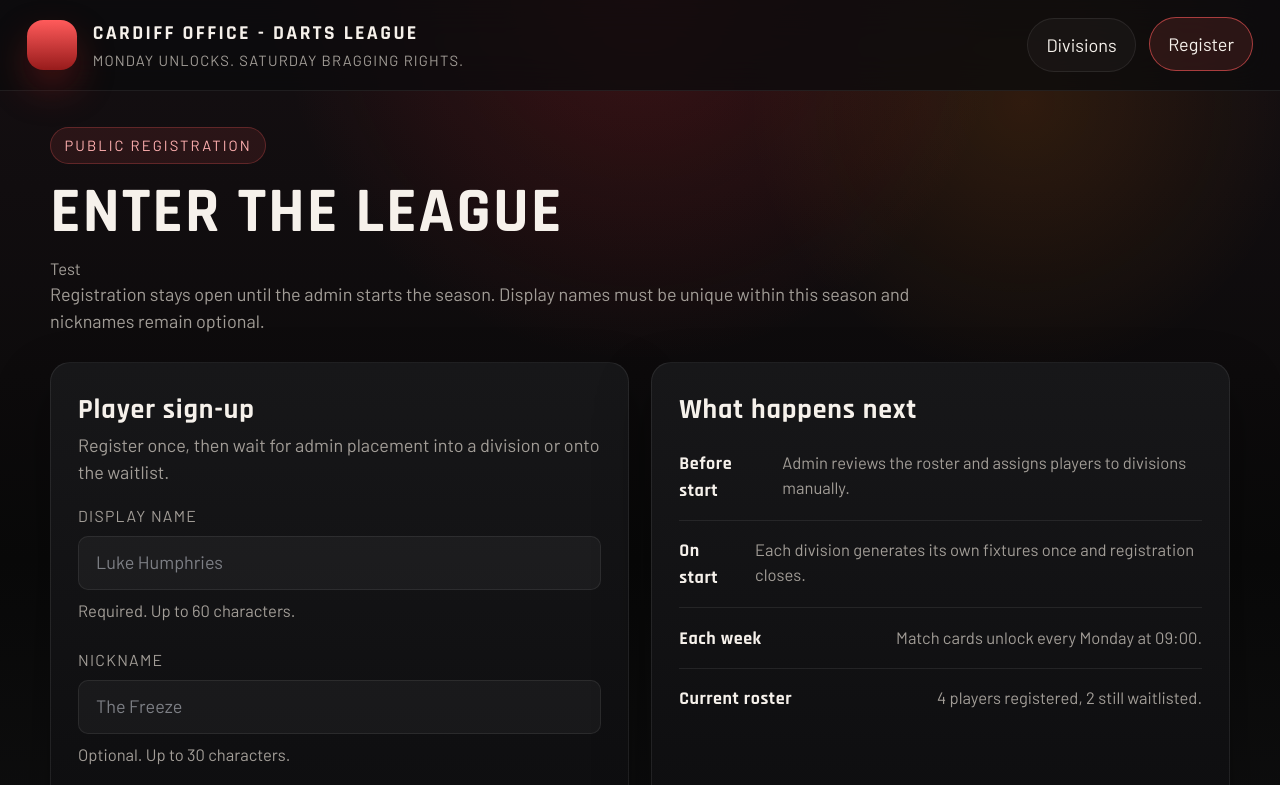
keeps input when the server rejects registration
Type "A" into the field labelled "Display name" at (339, 563), box [78,536,601,590]
(page scrolled)
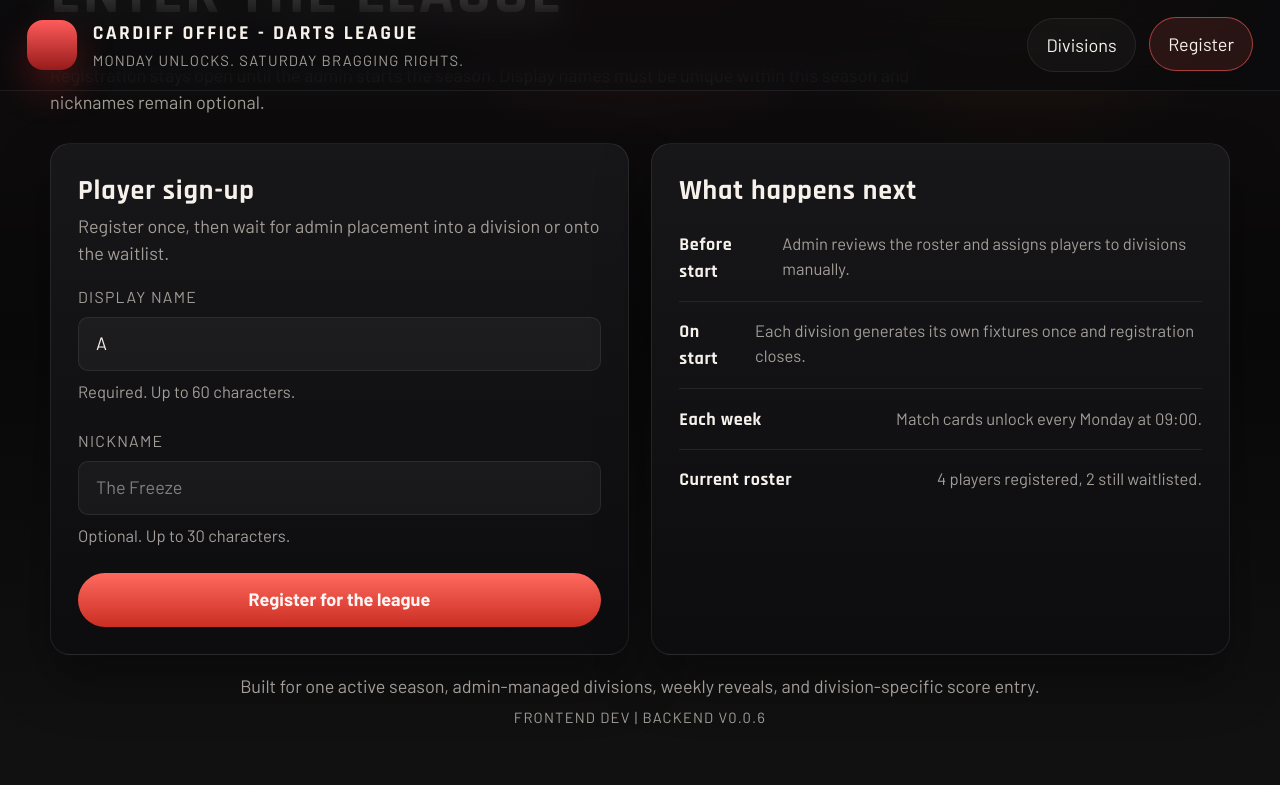
Click the button "Register for the league" at (339, 600), box [78,573,601,627]
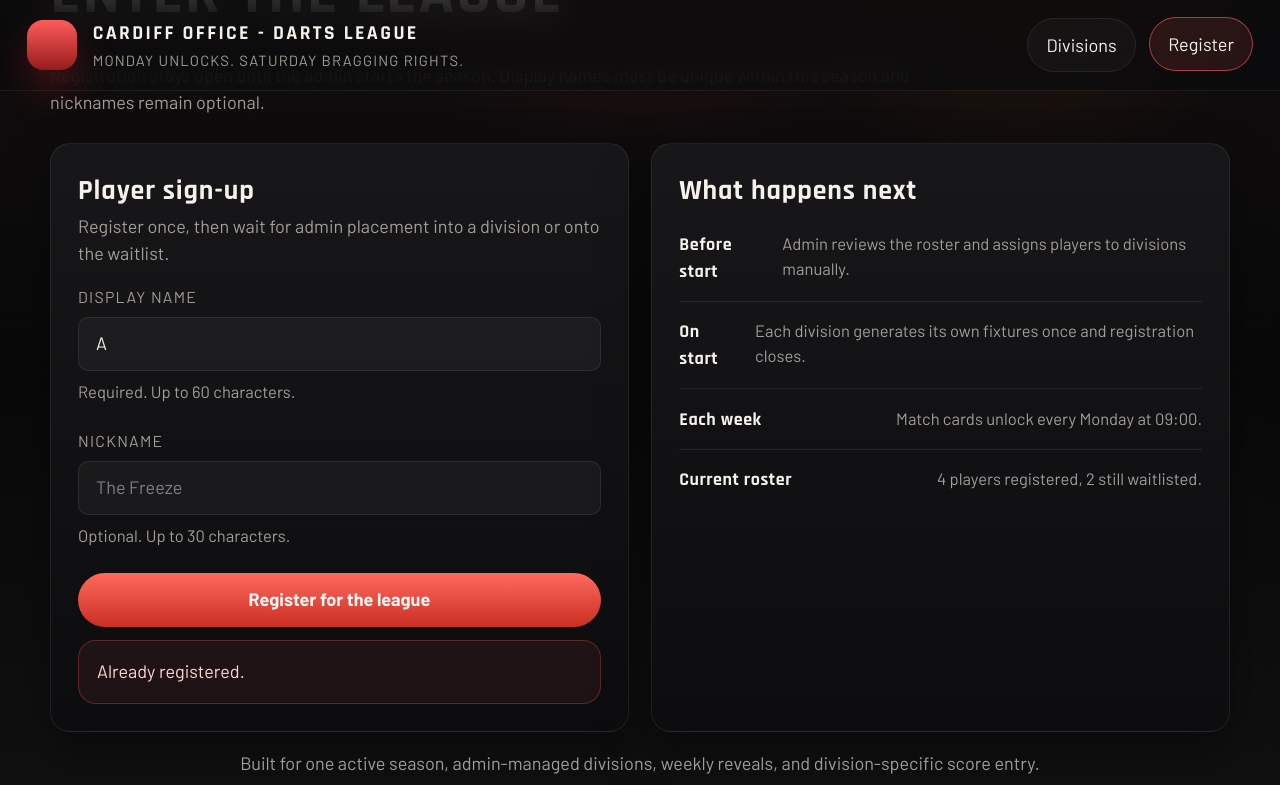
Check: the text "Already registered." is shown, box [78,640,601,704]
